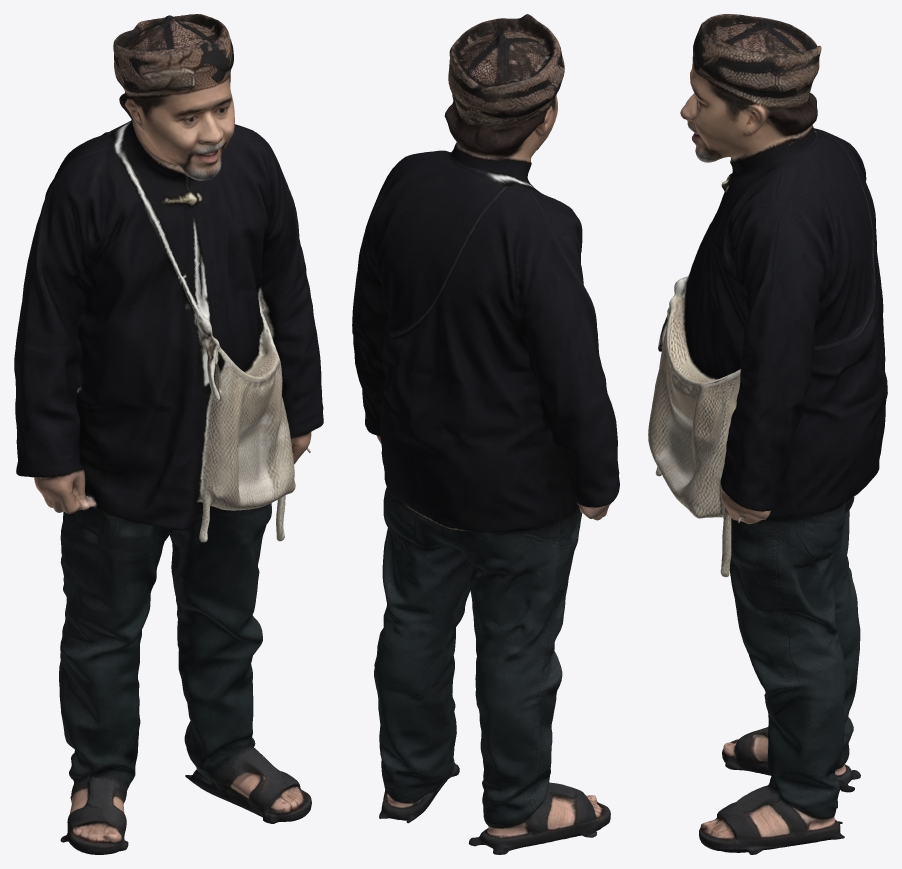
Rendered from compressed-bah nanu.glb.
The picture shows the model from 3 angles, left to right: view 1: azimuth 30°, elevation 25°; view 2: azimuth 150°, elevation 25°; view 3: azimuth 270°, elevation 25°; orthographic projection. The views are drawn at different scales.
Bounding box in the file's own units: 0.6878 × 1.9 × 0.5293.
1 material, 1 textured.
